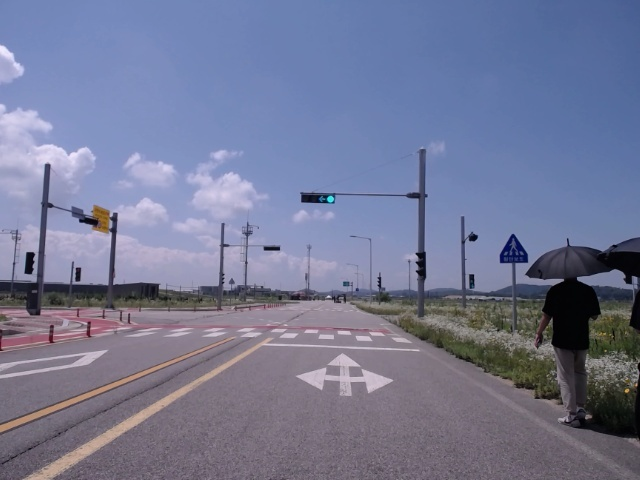all_green_4: (301, 188, 338, 203)
